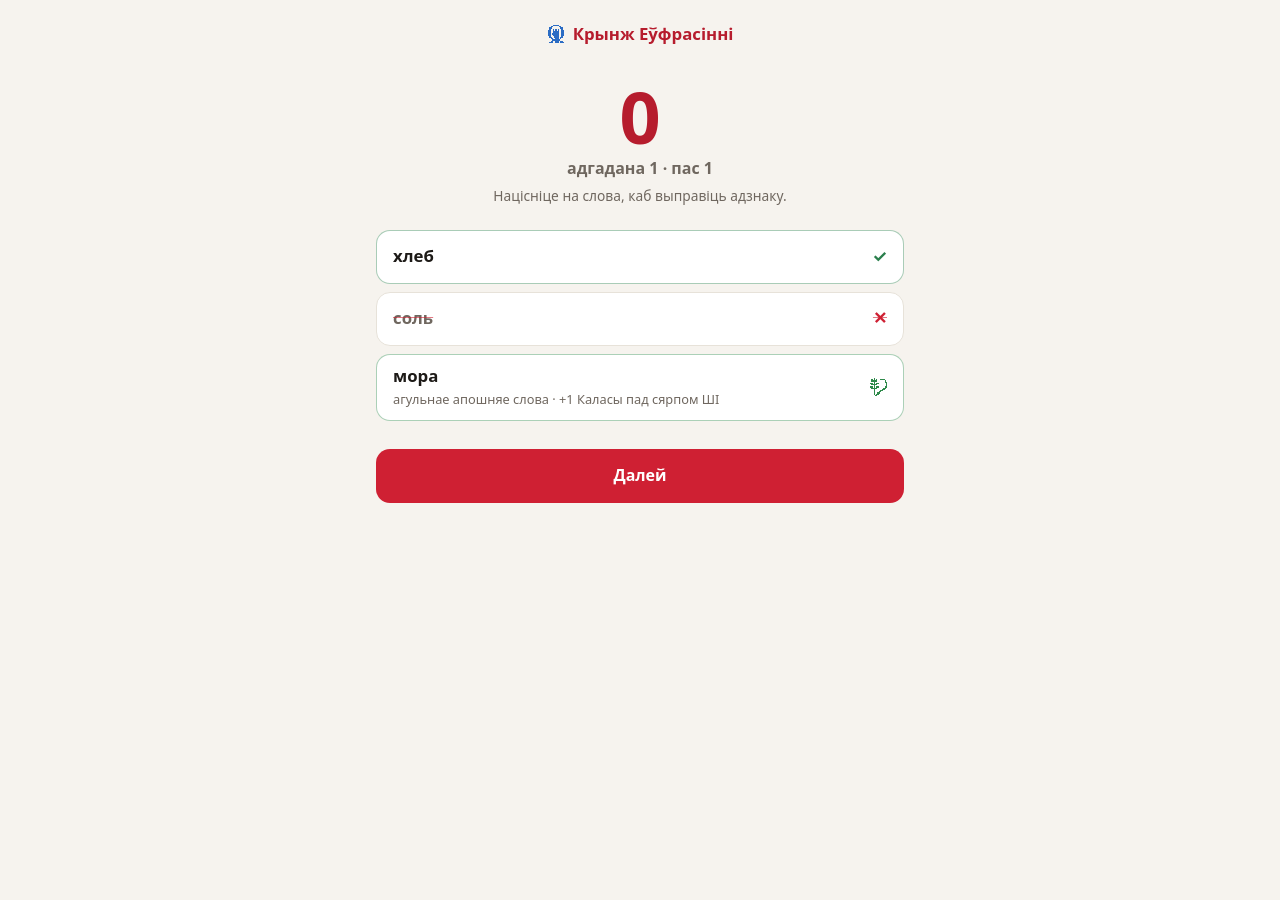
Test: RoundResultScreen › агульнае апошняе слова › націск адкрывае выбар каманды замест пераключэння адзнакі
The width and height of the screenshot is (1280, 900).
Click the button "мора агульнае апошняе слова · +1 Каласы пад сярпом ШІ": (416, 375) x1=376 y1=354 x2=904 y2=421
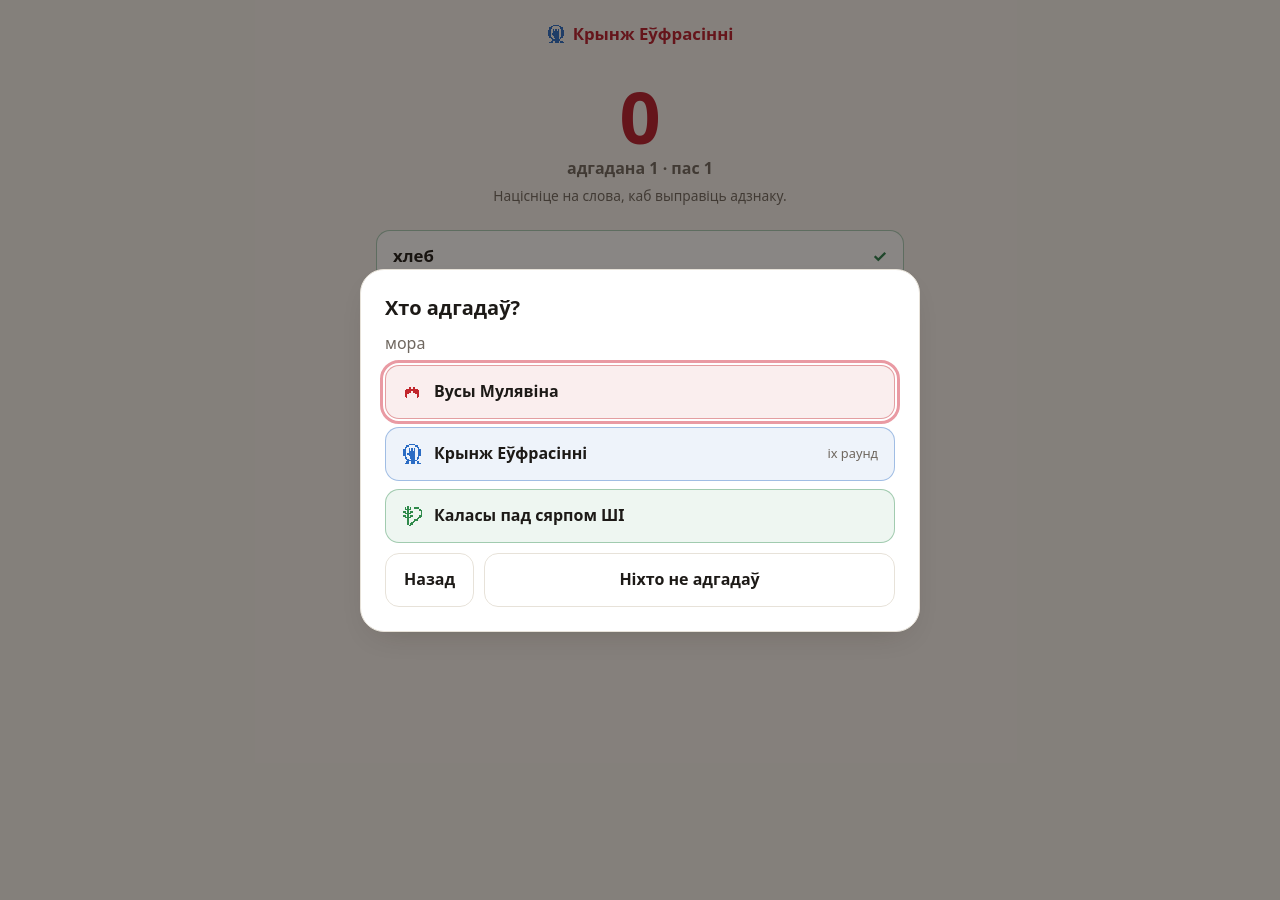
Now the text "мора" is shown, box x1=385 y1=332 x2=425 y2=354
Click the button "Вусы Мулявіна": (496, 391) x1=385 y1=364 x2=895 y2=418
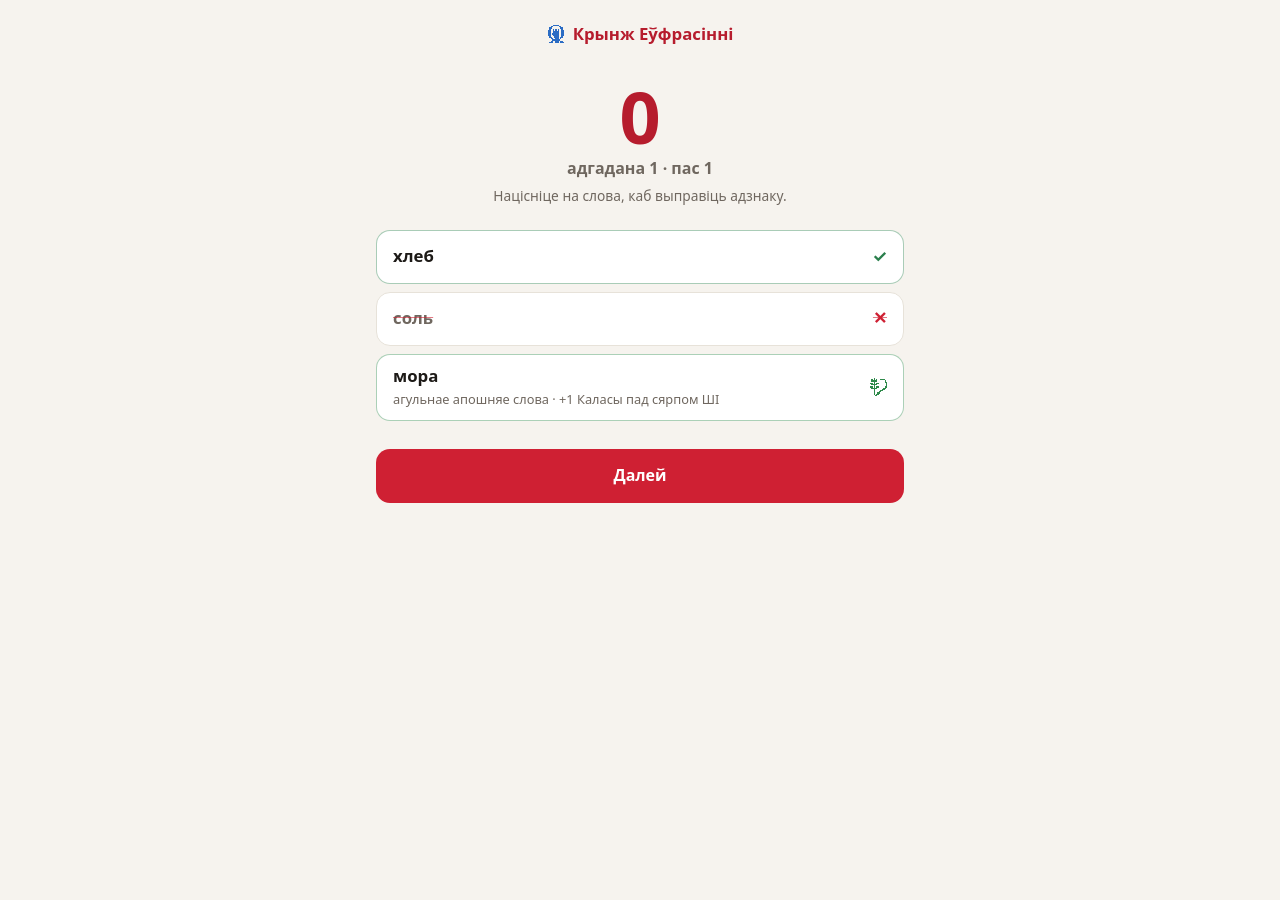
Now the heading "Хто адгадаў?" is gone
